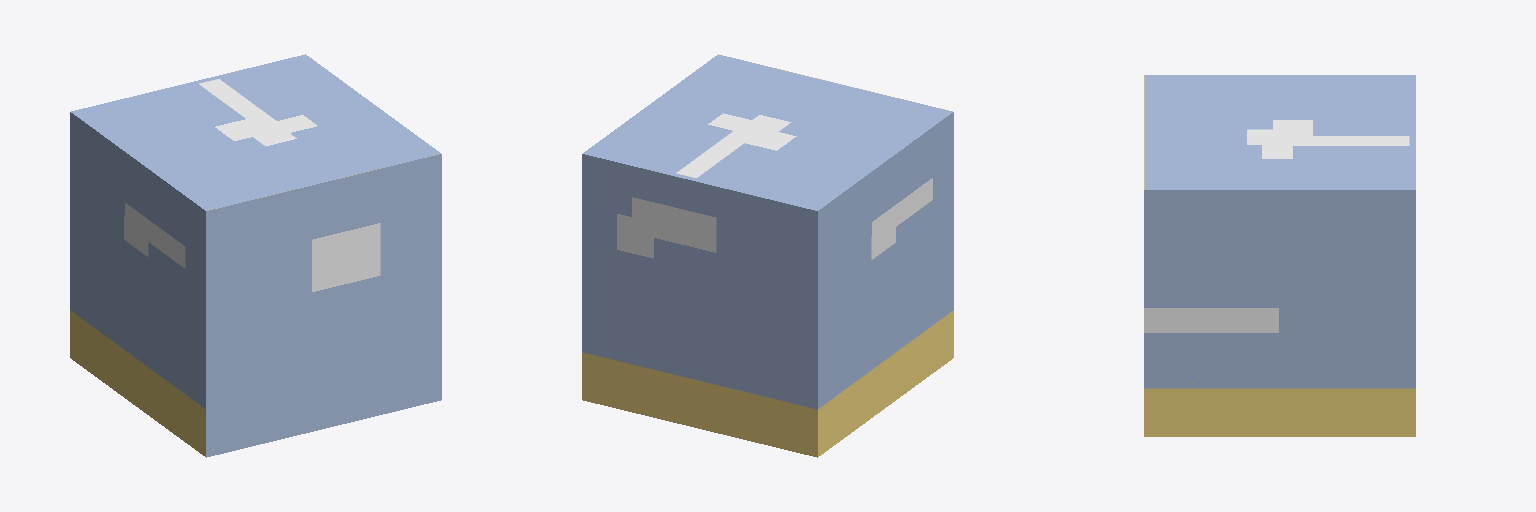
The picture shows the model from 3 angles: view 1: azimuth 30°, elevation 25°; view 2: azimuth 150°, elevation 25°; view 3: azimuth 270°, elevation 25°; orthographic projection.
Visible parts, largest first — view 1: skybox; view 2: skybox; view 3: skybox.
Boxes of the visible parts, x1,y1,x2,y2 form: skybox: [70, 54, 441, 457]; skybox: [582, 54, 953, 457]; skybox: [1144, 75, 1415, 436].
Bounding box in the file's own units: 2 × 2 × 2.
1 materials, 1 textured.